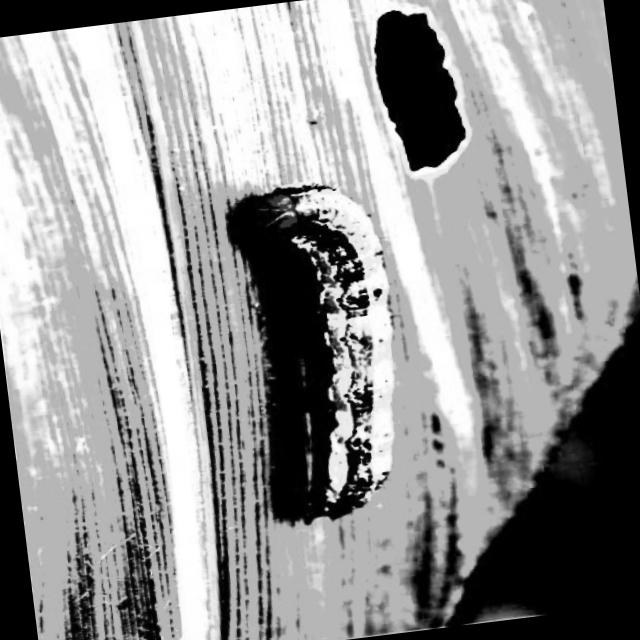Armyworm: (189, 160, 460, 539)
Armyworm_damage: (330, 1, 490, 186)
